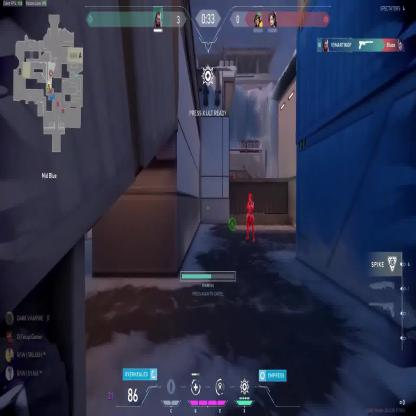enemy: (245, 192, 254, 242), (232, 172, 236, 186)
enemy_head: (248, 193, 252, 202), (233, 172, 235, 176)
